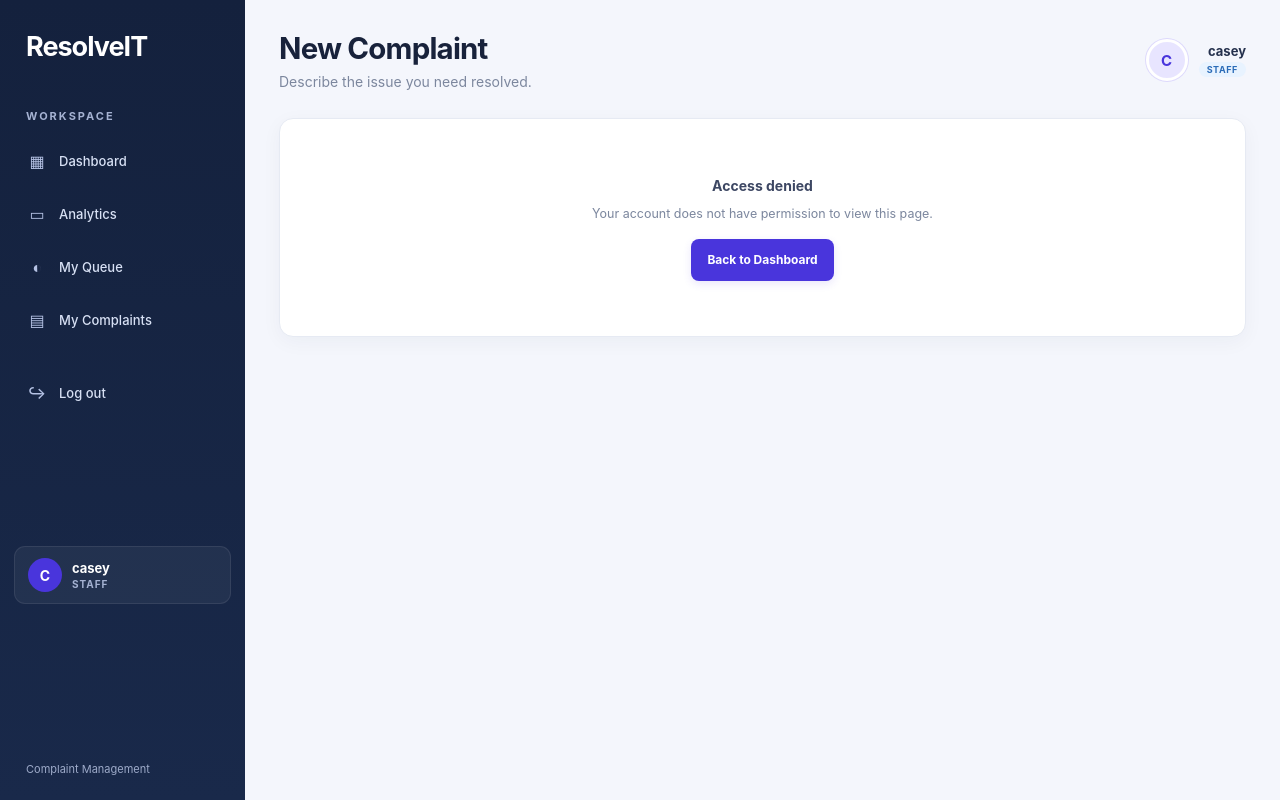
role-based dashboards and navigation › prevents staff from accessing the compose page directly with access denied
Check: the text "Access denied" is shown, box [712,177,813,194]
Check: the text "Your account does not have permission to view this page." is shown, box [592,206,933,221]
Click the button "Back to Dashboard" at (763,260), box [691,239,834,281]
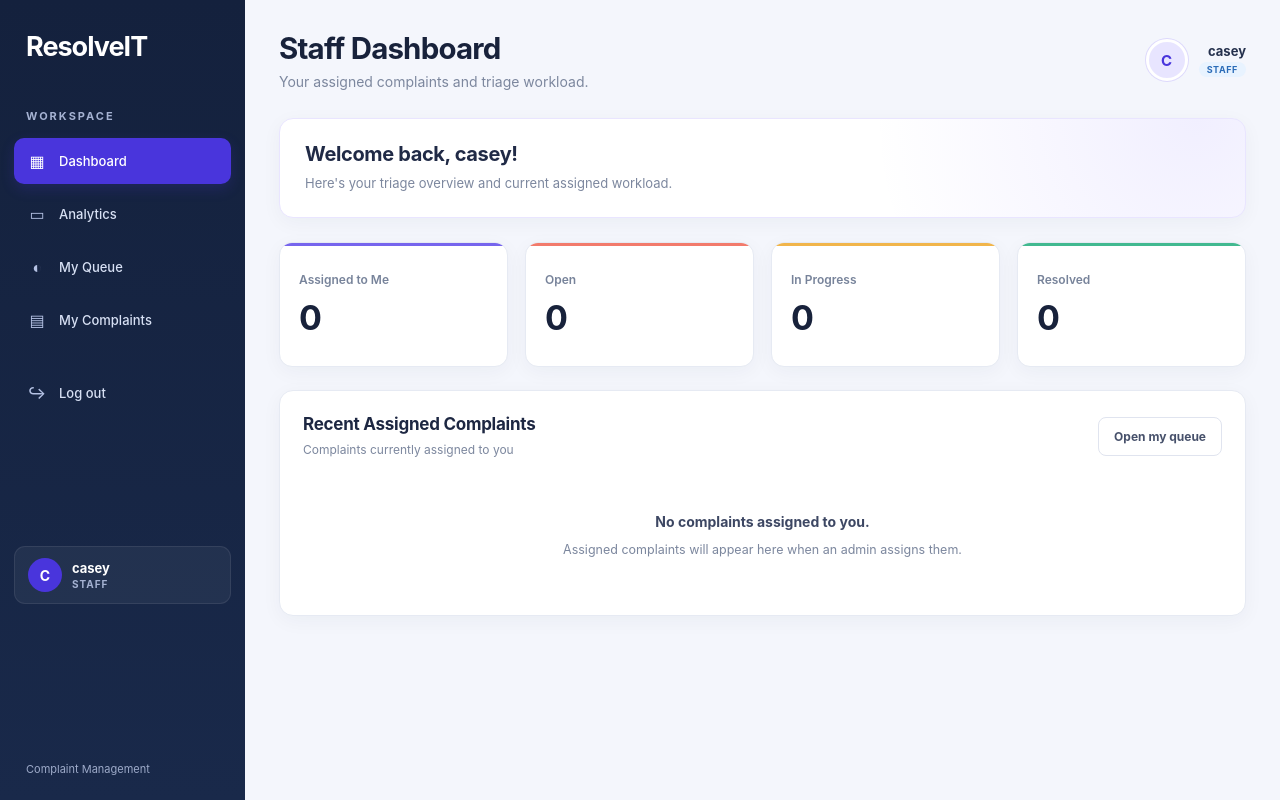
Check: the element with test id "staff-dashboard" is shown, box [279,118,1246,218]
